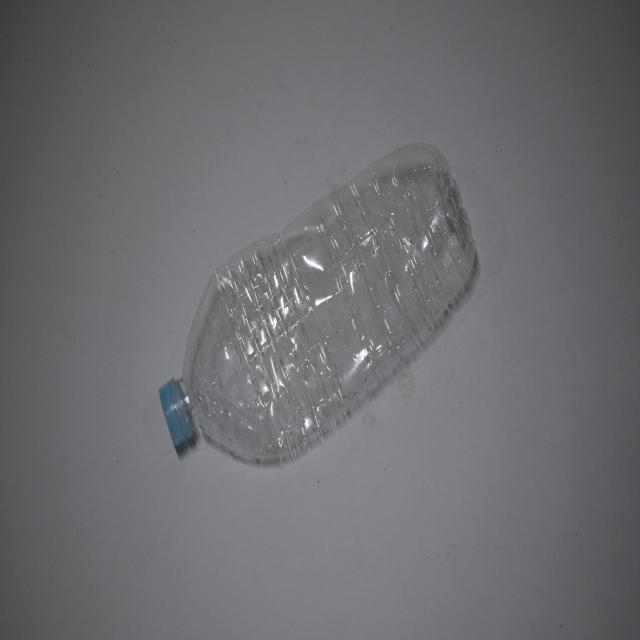empty: (159, 144, 475, 464)
